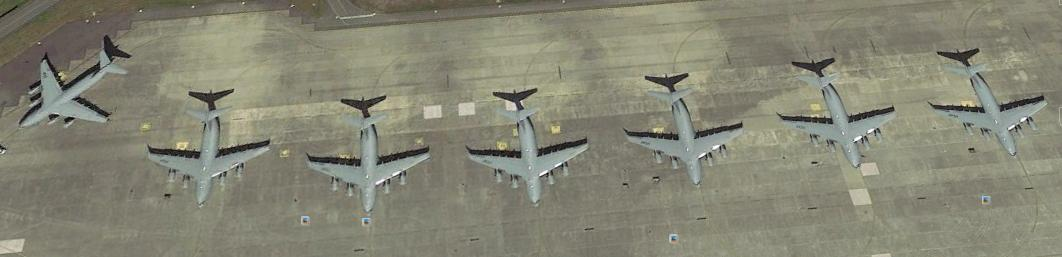C-17: (307, 101, 432, 217), (467, 93, 594, 206), (147, 100, 277, 207), (777, 61, 902, 172), (626, 74, 745, 186), (935, 50, 1052, 159), (21, 45, 131, 135)
